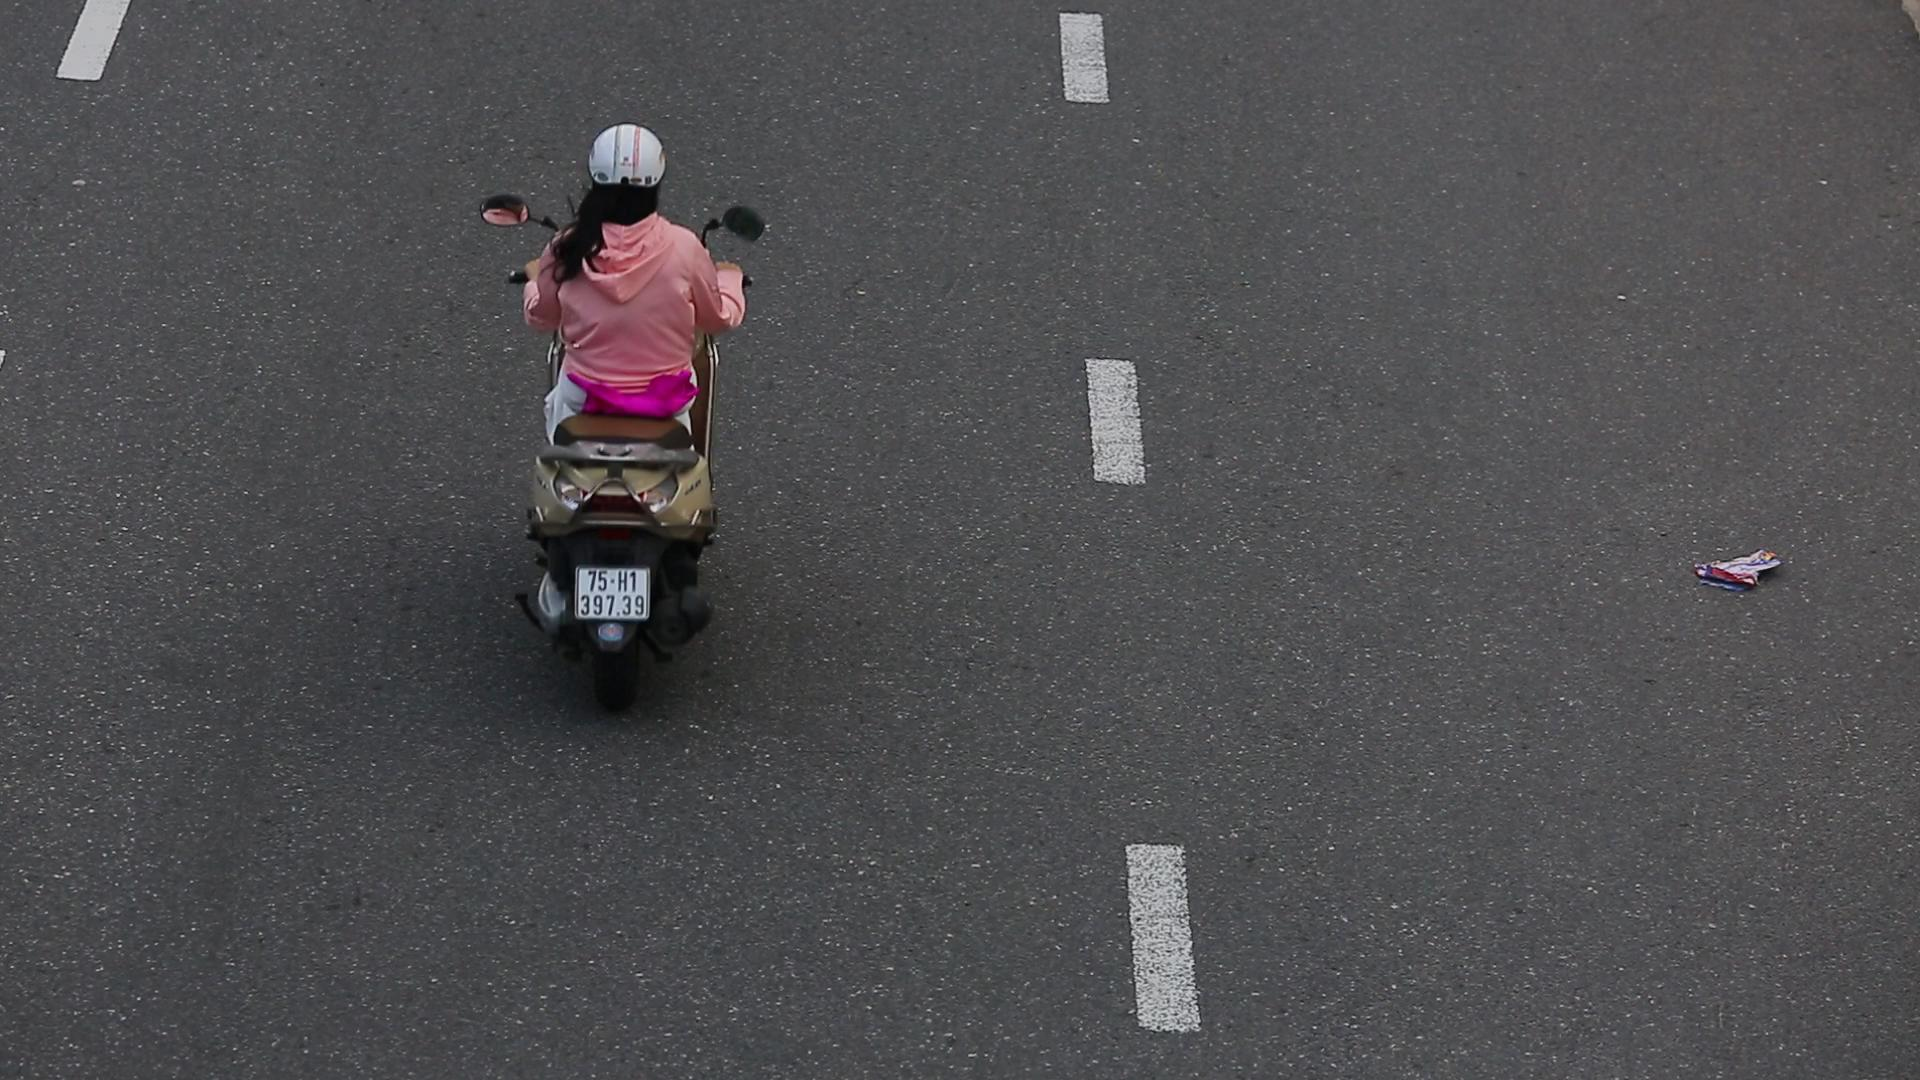motobike: (484, 104, 777, 721)
